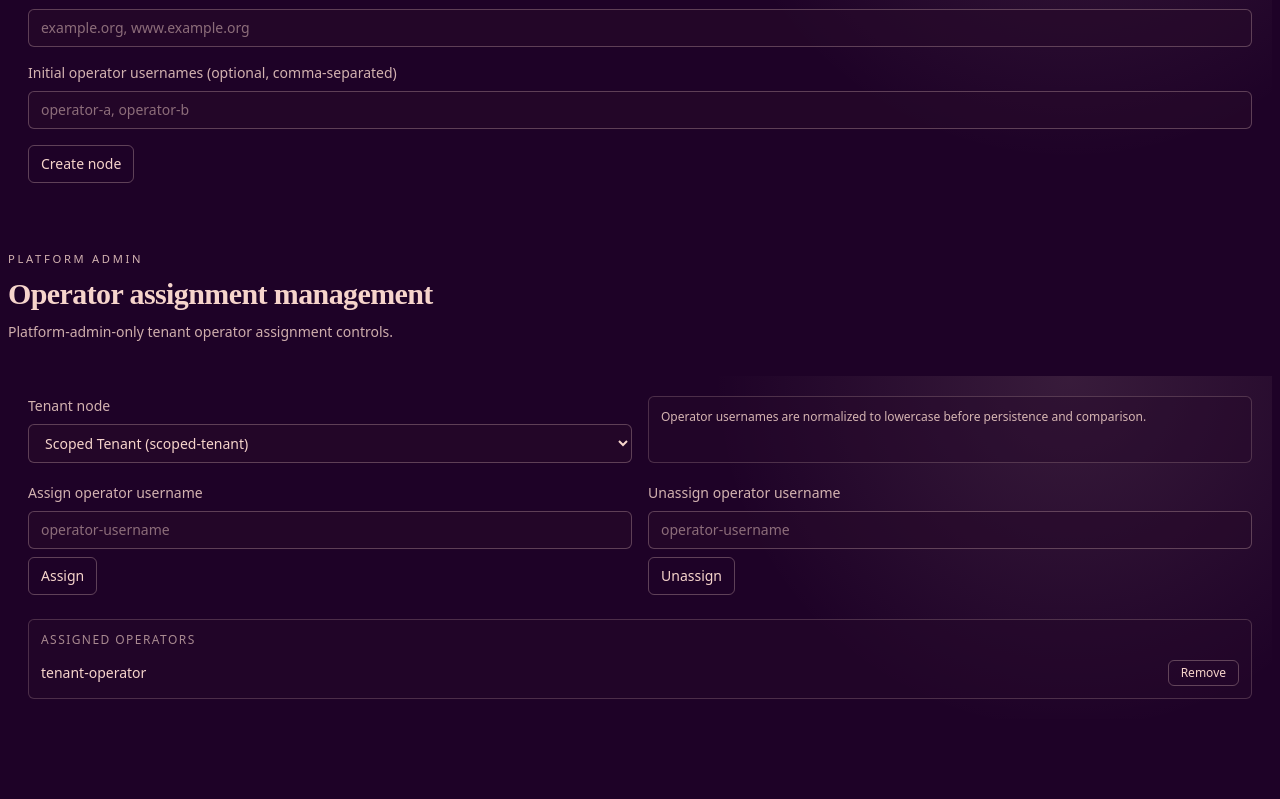
it: TenantsListPage › renders idempotent no-op states honestly
The width and height of the screenshot is (1280, 799).
(page scrolled)
Check: the text "tenant-operator" is shown, box x1=41 y1=663 x2=146 y2=683
In the field labelled "Assign operator username": (330, 530) x1=28 y1=511 x2=632 y2=549, type "TENANT-OPERATOR"
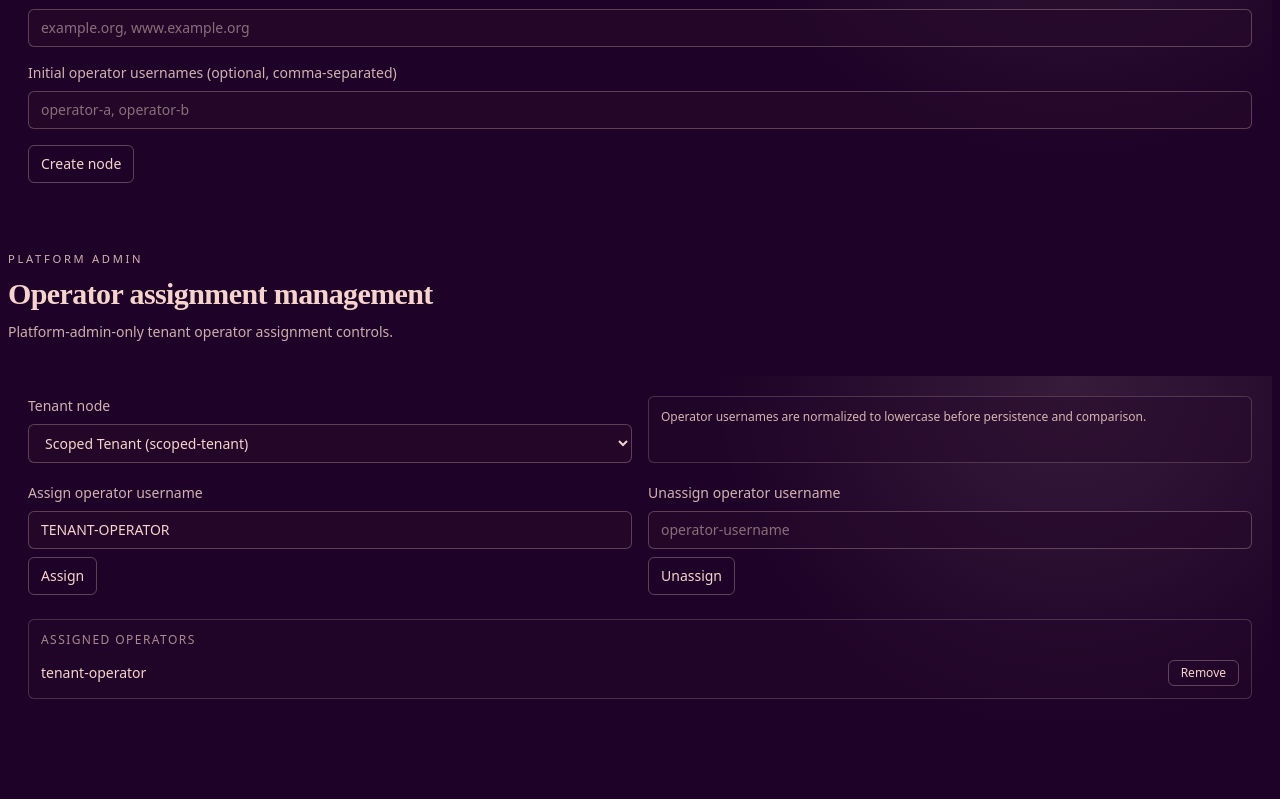
Click the button "Assign": click(63, 576) x1=28 y1=557 x2=97 y2=595
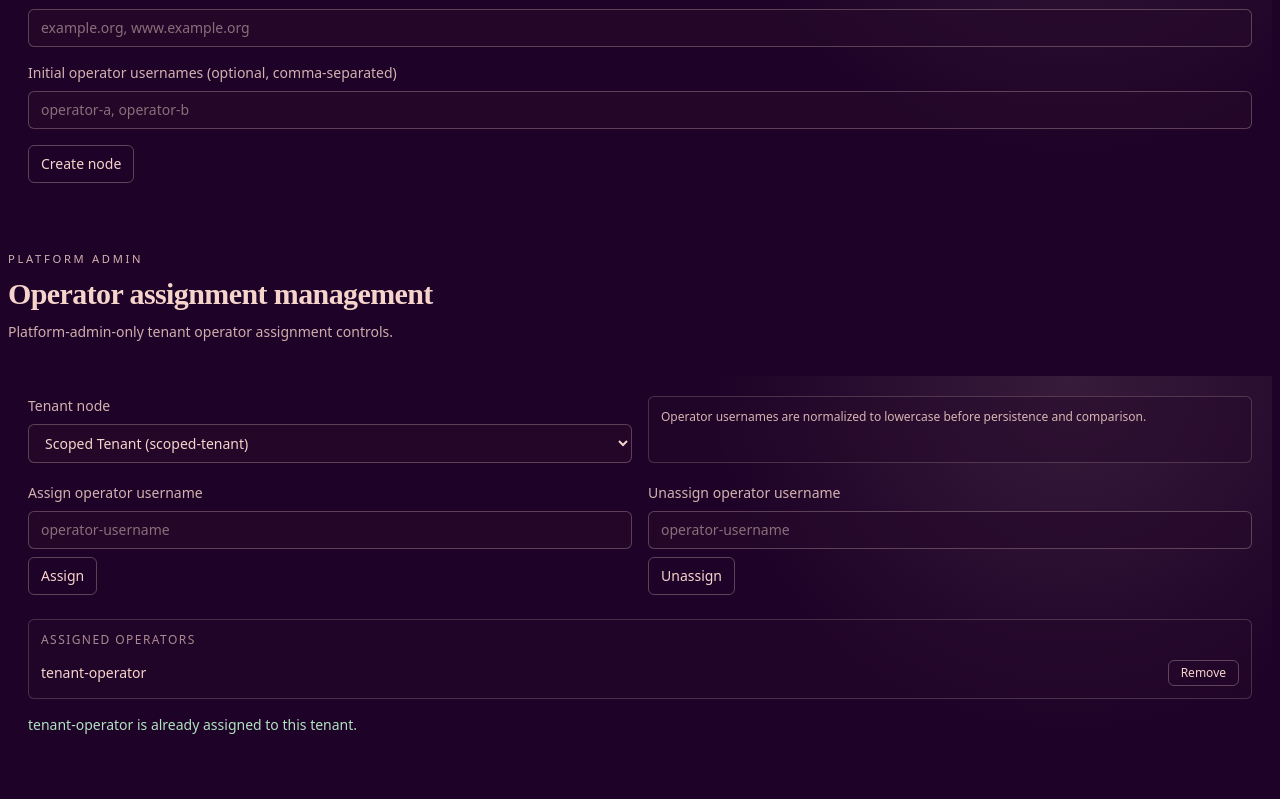
Check: the text "tenant-operator is already assigned to this tenant." is shown, box x1=28 y1=715 x2=357 y2=734
In the field labelled "Unassign operator username": (950, 530) x1=648 y1=511 x2=1252 y2=549, type "missing-user"
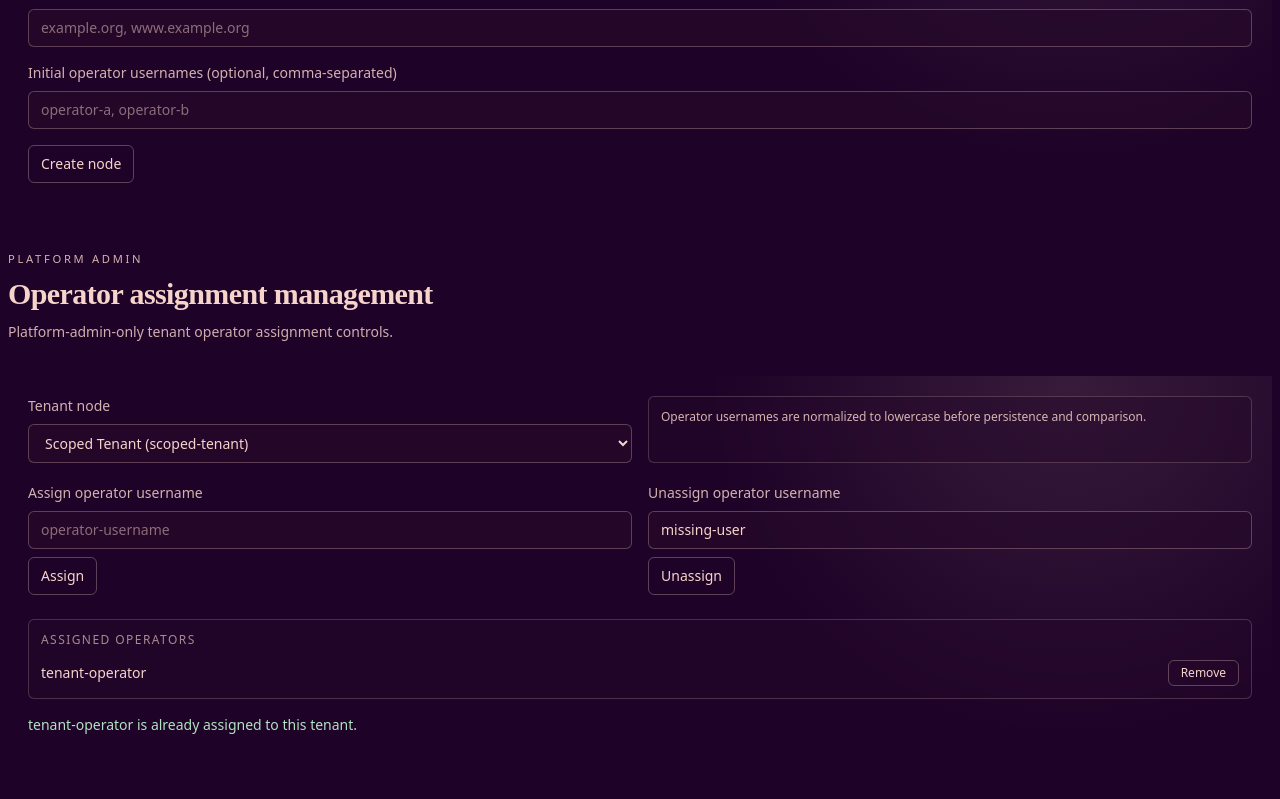
Click the button "Unassign": click(692, 576) x1=648 y1=557 x2=735 y2=595
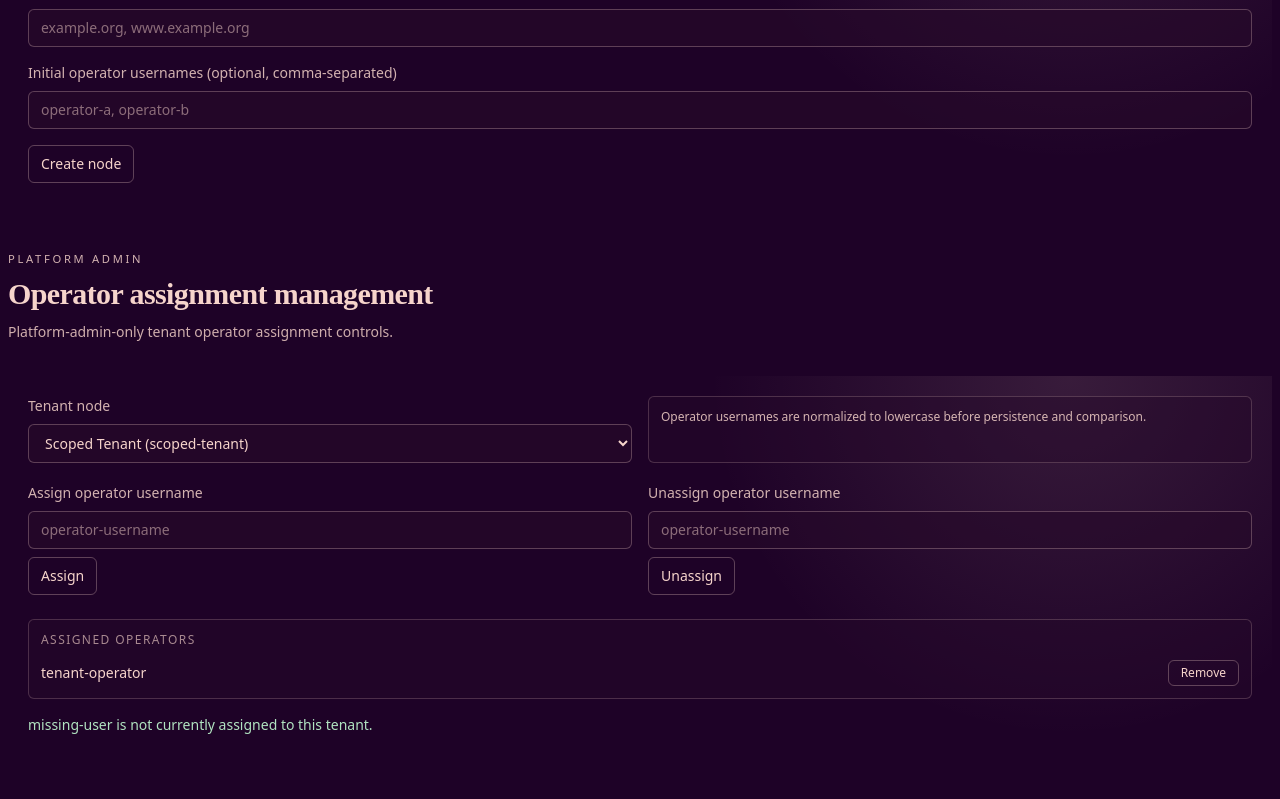
Check: the text "missing-user is not currently assigned to this tenant." is shown, box x1=28 y1=715 x2=373 y2=734
